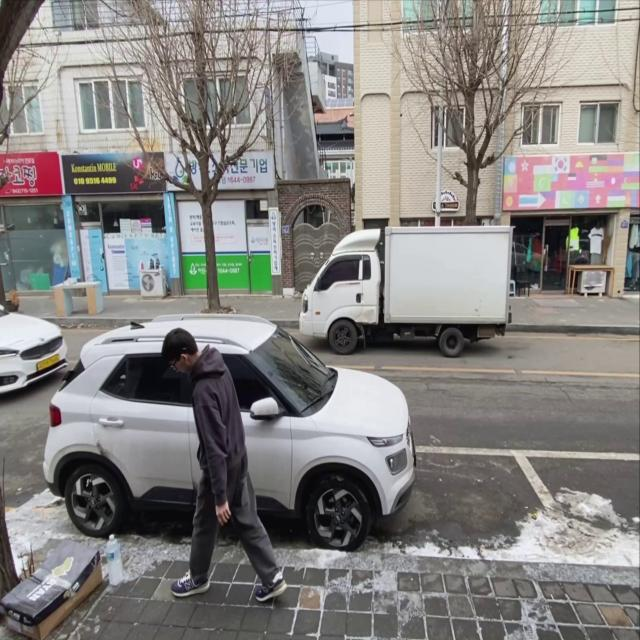bare_hand: (213, 500, 232, 528)
